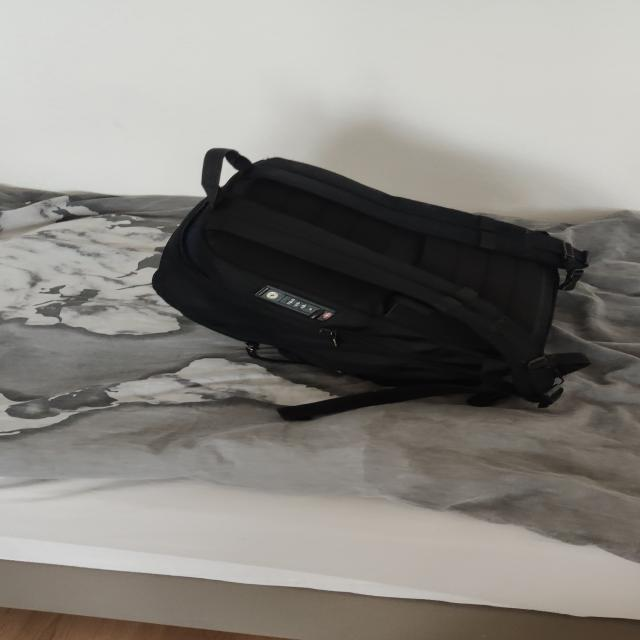backpack: (136, 139, 604, 419)
